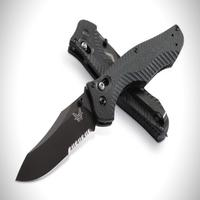knife: (13, 22, 174, 186)
